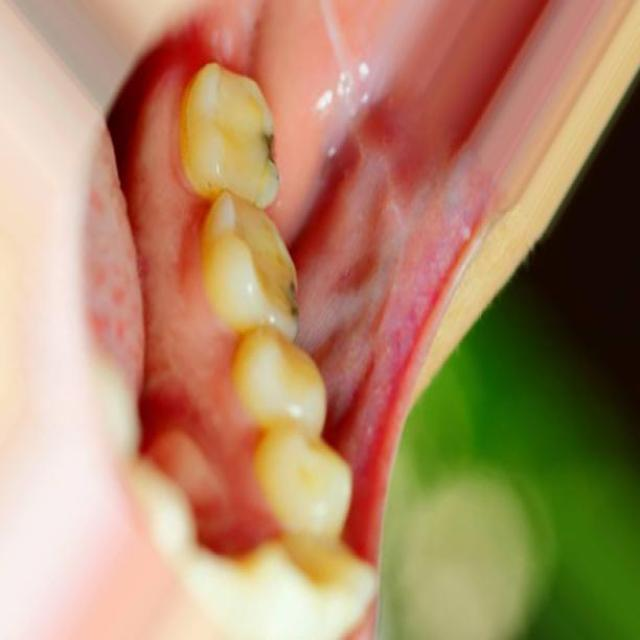caries: (216, 179, 319, 331), (201, 61, 275, 191)
